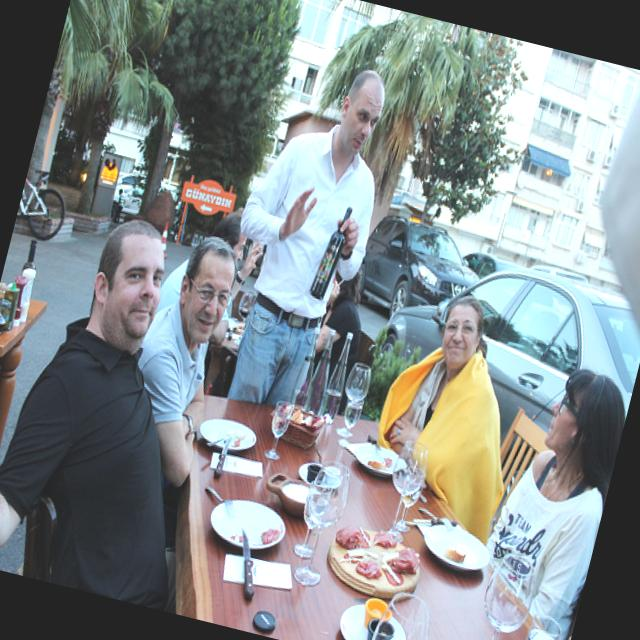Vehicle: (341, 236, 640, 567), (349, 208, 488, 338), (106, 170, 147, 226), (528, 260, 590, 284), (458, 249, 499, 282)
